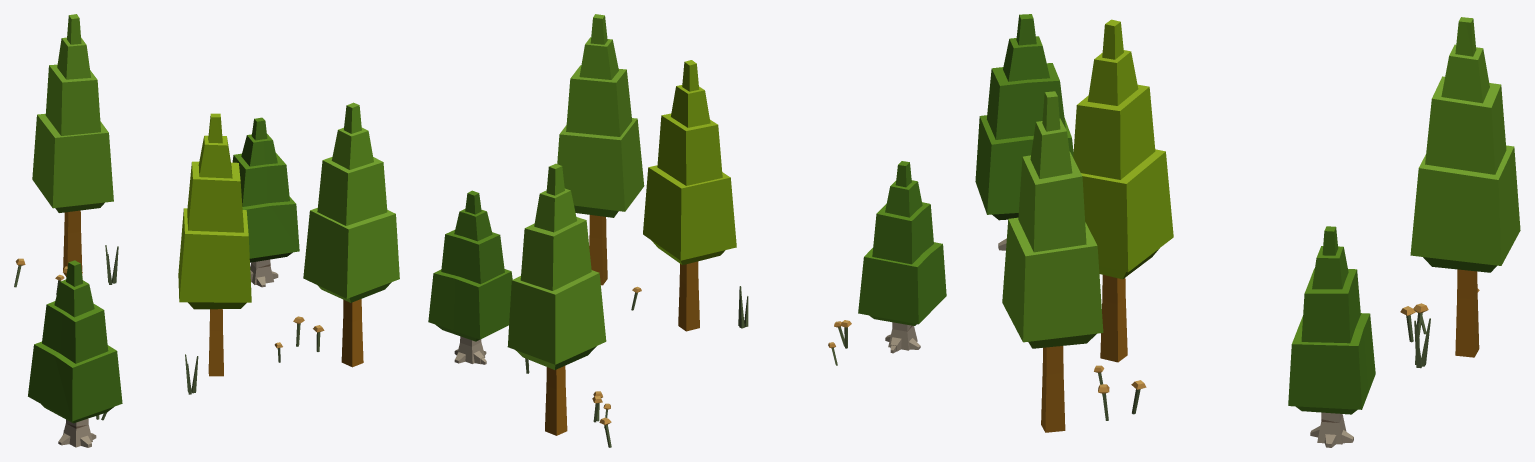
Rendered from SF_Env_Elven_Preset_03.fbx.
3 renders of one model, left to right at view 1: azimuth 30°, elevation 25°; view 2: azimuth 150°, elevation 25°; view 3: azimuth 270°, elevation 25°, orthographic. The views are drawn at different scales.
Parts seen in each view (by area): view 1: SF_Env_Elven_Preset_03; view 2: SF_Env_Elven_Preset_03; view 3: SF_Env_Elven_Preset_03.
Part boxes in pixels (x1,y1,x2,y2): SF_Env_Elven_Preset_03: (14,14,399,447); SF_Env_Elven_Preset_03: (428,14,946,447); SF_Env_Elven_Preset_03: (975,14,1520,447).
Size of the model in its own units: 18.84 by 12.78 by 18.86.
